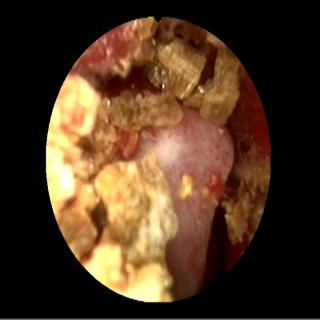stone: (49, 41, 206, 259), (84, 153, 176, 298), (183, 48, 240, 125), (112, 21, 155, 79), (222, 179, 254, 244), (180, 174, 193, 199)
tissue: (137, 72, 265, 297)
